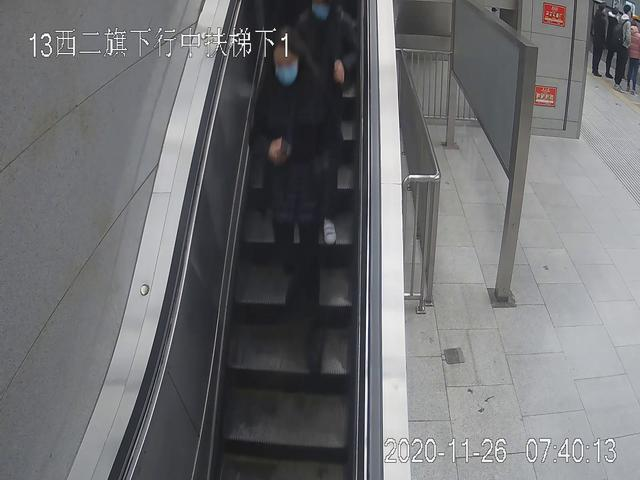person: (255, 29, 340, 374), (614, 5, 631, 88), (604, 6, 620, 79), (590, 3, 605, 79)
